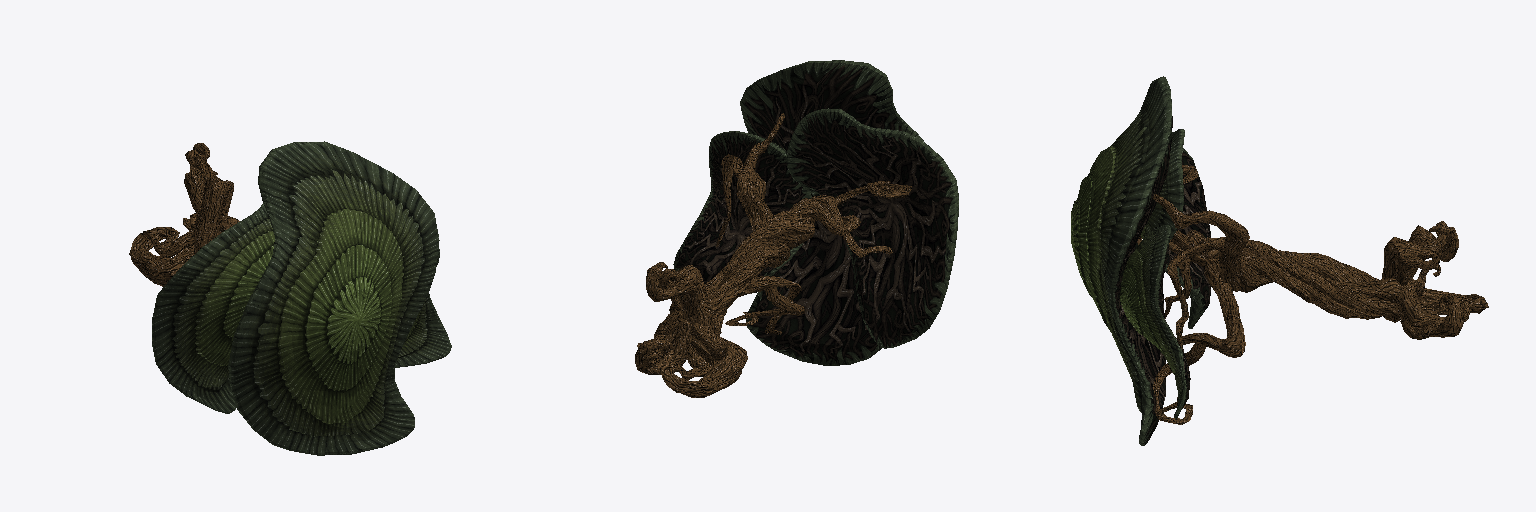
3 renders of one model, left to right at view 1: azimuth 30°, elevation 25°; view 2: azimuth 150°, elevation 25°; view 3: azimuth 270°, elevation 25°, orthographic.
Parts seen in each view (by area): view 1: Object.2, Object.1; view 2: Object.2, Object.1; view 3: Object.2, Object.1.
Boxes of the visible parts, <box> form: Object.2: <box>152,141,451,455</box>; Object.1: <box>129,143,239,286</box>; Object.2: <box>673,60,958,365</box>; Object.1: <box>635,113,911,397</box>; Object.2: <box>1071,76,1210,445</box>; Object.1: <box>1137,165,1488,424</box>.
Bounding box in the file's own units: 147 × 155 × 184.
Materials: 2 (2 with a texture image).